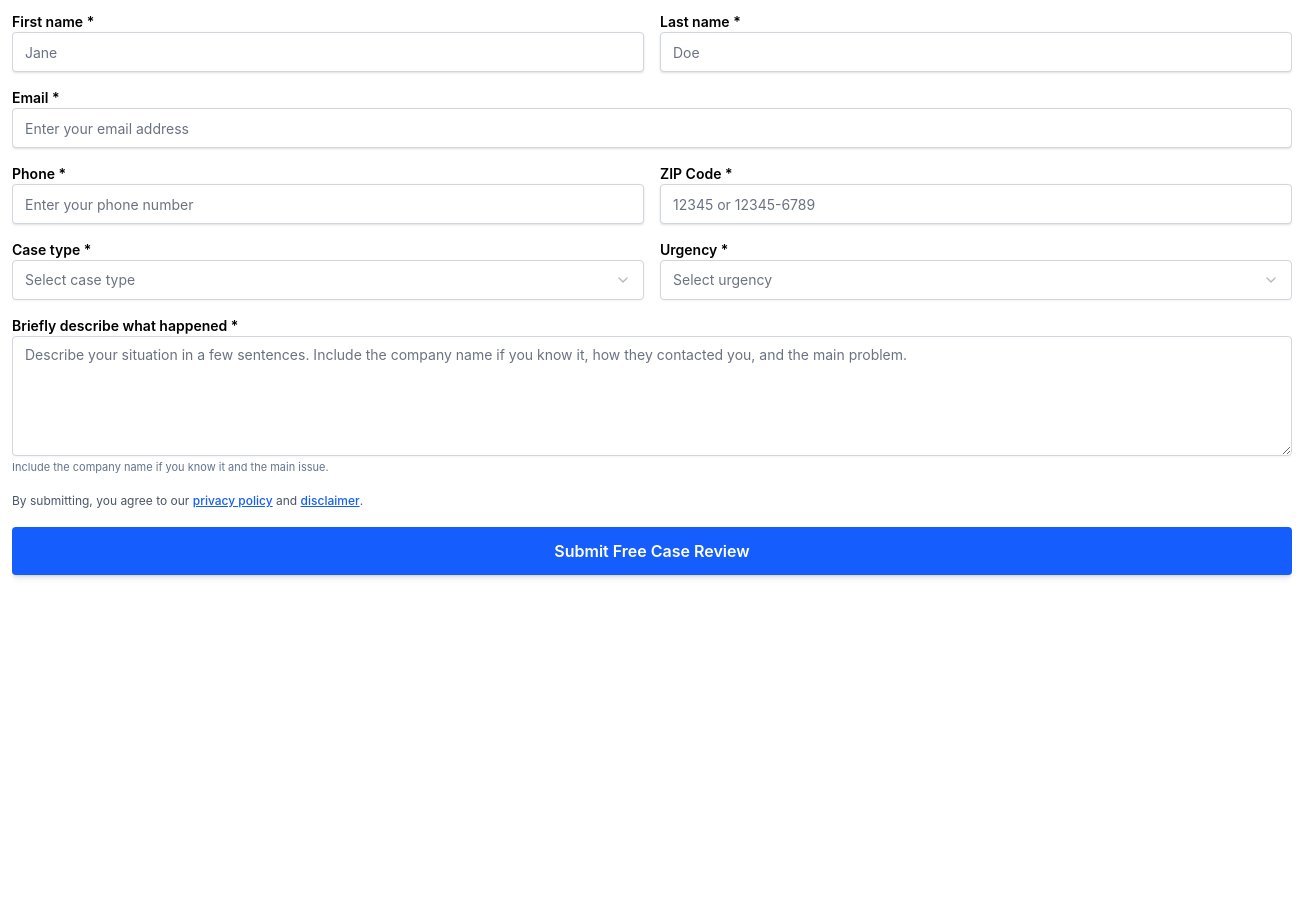
it: SimpleContactForm behavior › blocks client validation failures before the backend
Click the button "Submit Free Case Review".
click(652, 551)  # box [12,527,1292,575]
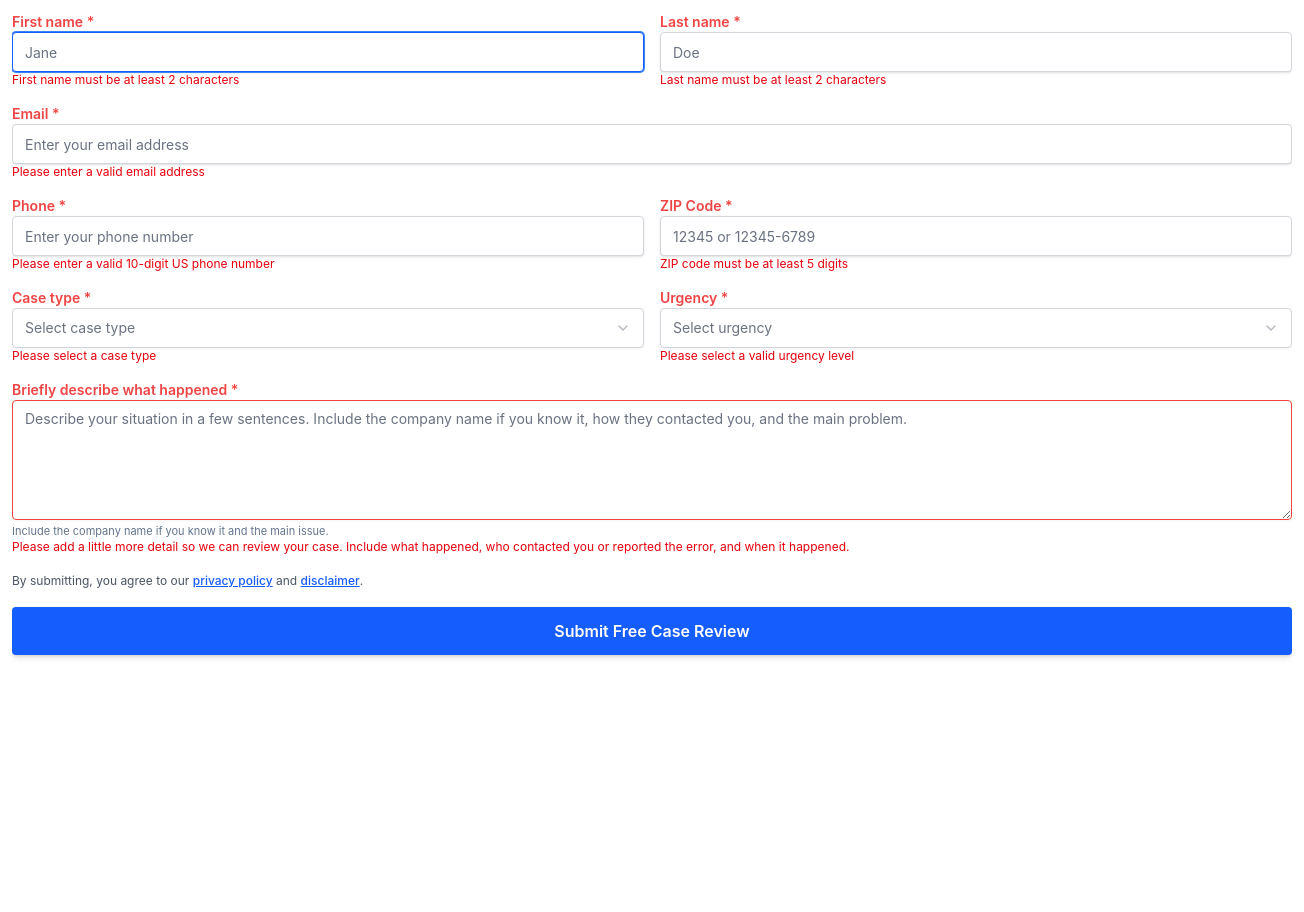
Result: the text "First name must be at least 2 characters" is shown at [12,72,239,87]
